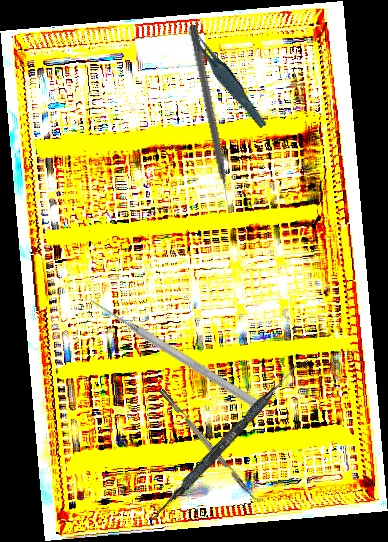Chopper: (159, 383, 265, 507)
Pusher: (87, 294, 265, 413), (186, 24, 234, 211)
Spatula Surgical: (148, 351, 308, 528)
Tissue Forceps: (185, 20, 268, 134)
